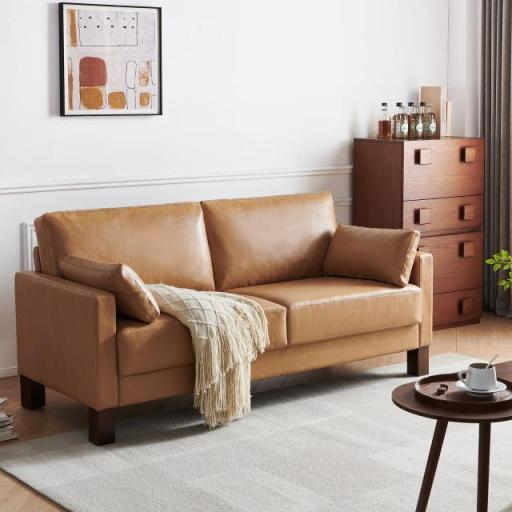sofa: (22, 183, 438, 420)
